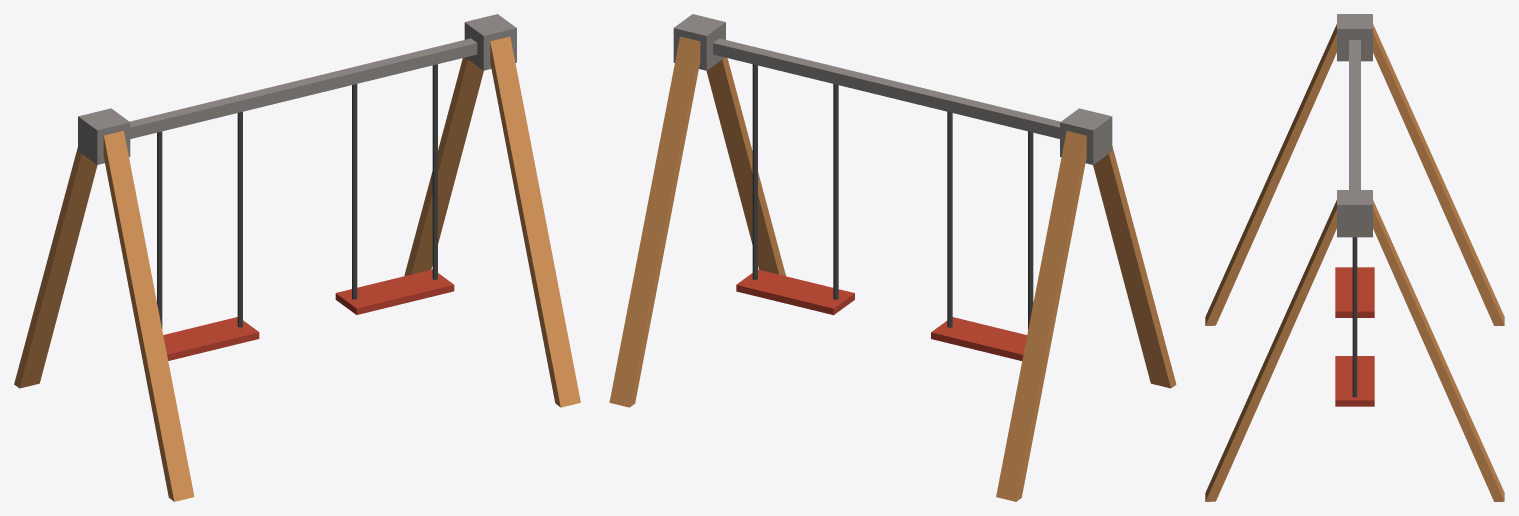
File: Environment_Objects_Swing.fbx
The picture shows the model from 3 angles, left to right: view 1: azimuth 30°, elevation 25°; view 2: azimuth 150°, elevation 25°; view 3: azimuth 270°, elevation 25°; orthographic projection. The views are drawn at different scales.
Parts seen in each view (by area): view 1: Environment_Objects_Swing; view 2: Environment_Objects_Swing; view 3: Environment_Objects_Swing.
Boxes of the visible parts, x1,y1,x2,y2 form: Environment_Objects_Swing: (14, 14, 580, 501); Environment_Objects_Swing: (609, 14, 1176, 501); Environment_Objects_Swing: (1205, 14, 1504, 501).
Bounding box in the file's own units: 299 × 219 × 198.
